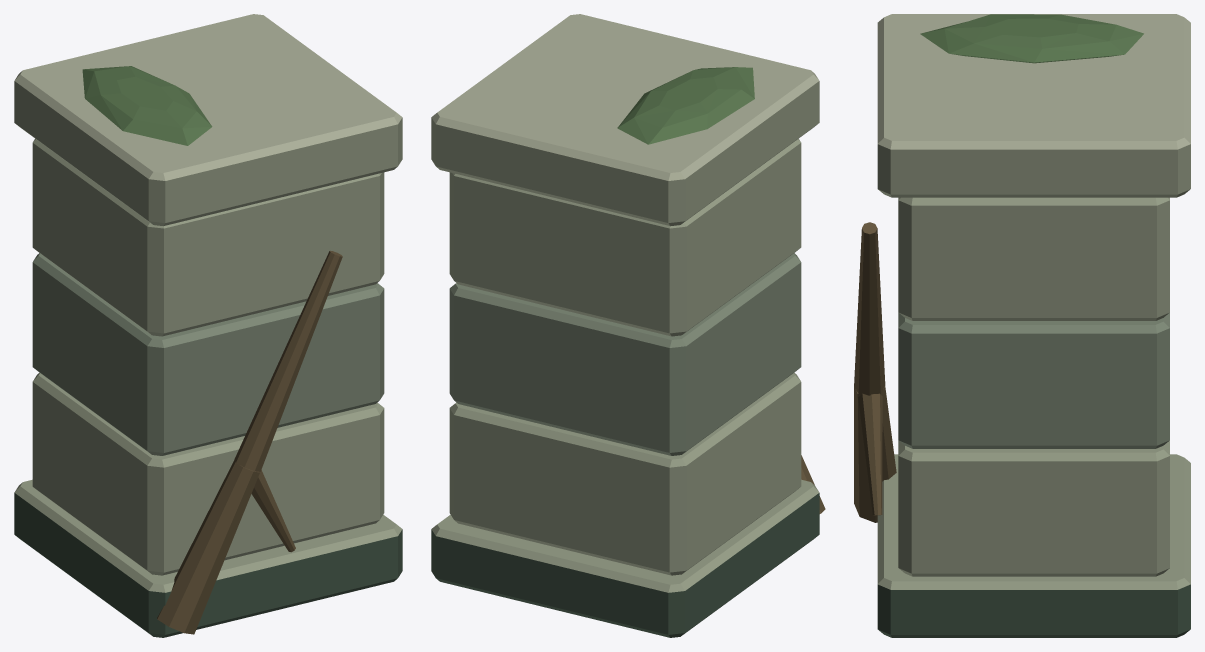
File: wall-end.glb
The picture shows the model from 3 angles, left to right: view 1: azimuth 30°, elevation 25°; view 2: azimuth 150°, elevation 25°; view 3: azimuth 270°, elevation 25°; orthographic projection. The views are drawn at different scales.
Visible parts, largest first — view 1: wall-end__body; view 2: wall-end__body; view 3: wall-end__body.
Boxes of the visible parts, bbox=[...] form: wall-end__body: bbox=[14, 14, 402, 637]; wall-end__body: bbox=[431, 14, 825, 637]; wall-end__body: bbox=[854, 14, 1190, 637].
Size of the model in its own units: 0.6 by 1.09 by 0.645.
